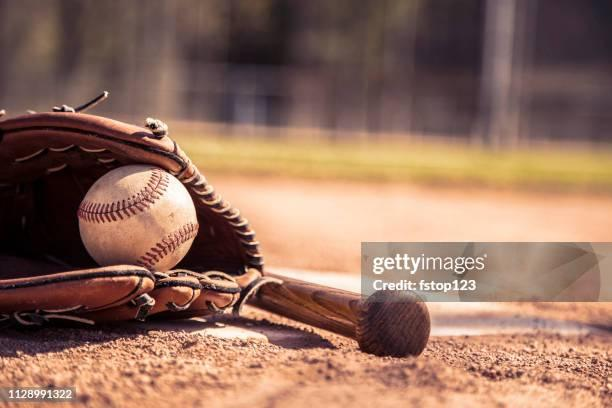baseball: (78, 166, 198, 271)
